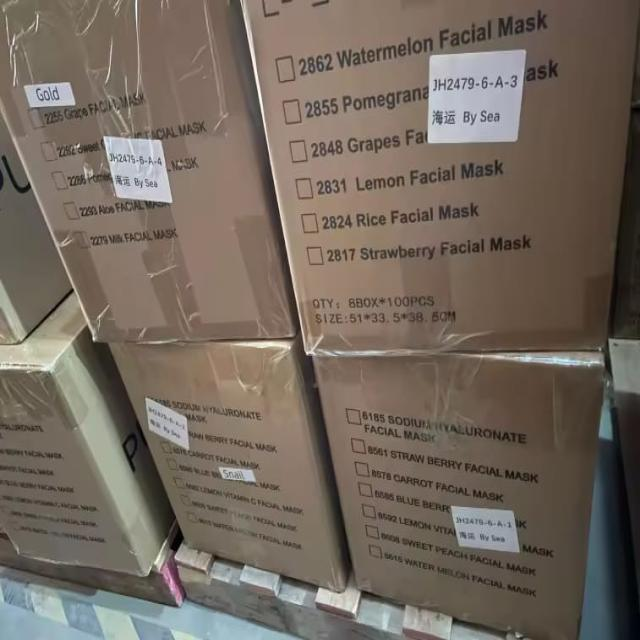carton_box: (234, 0, 633, 360), (0, 0, 296, 336), (309, 338, 613, 640), (99, 324, 352, 596), (0, 326, 170, 579)
export_mark_label: (422, 43, 527, 144), (99, 118, 176, 210), (451, 503, 524, 563), (142, 388, 201, 460)
